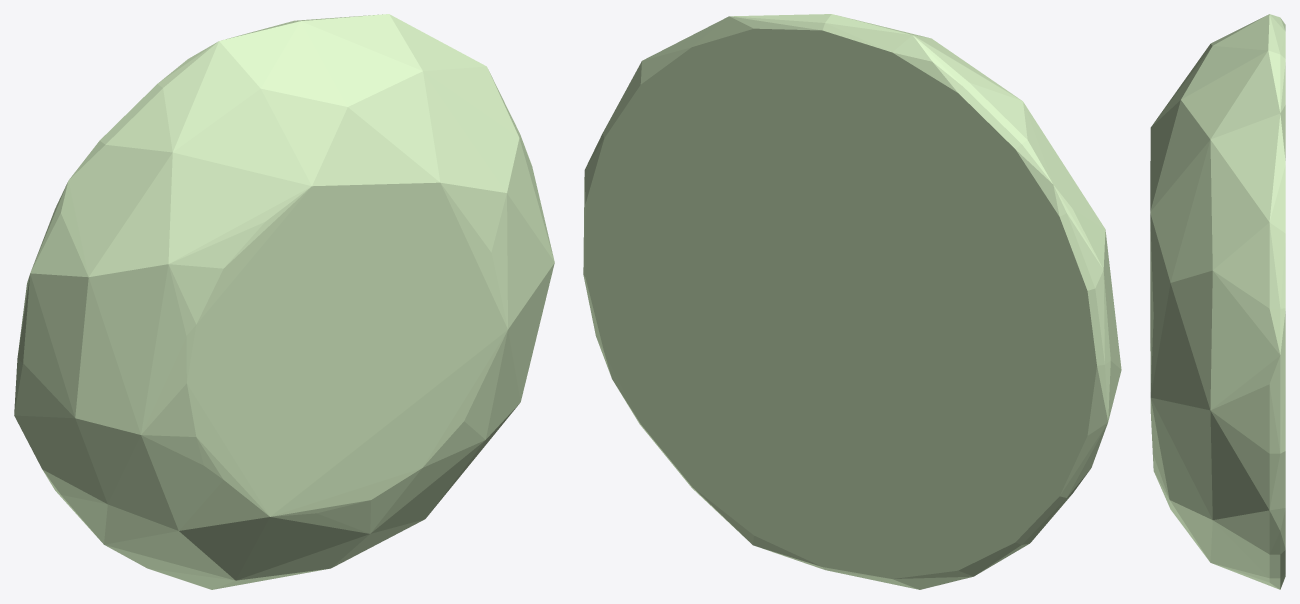
The model's file is kuka_link8_resp_coll_1.dae.
The picture shows the model from 3 angles, left to right: view 1: azimuth 30°, elevation 25°; view 2: azimuth 150°, elevation 25°; view 3: azimuth 270°, elevation 25°; orthographic projection. The views are drawn at different scales.
Visible parts, largest first — view 1: Node_0000015C5C916960; view 2: Node_0000015C5C916960; view 3: Node_0000015C5C916960.
Boxes of the visible parts, bbox=[...] form: Node_0000015C5C916960: bbox=[14, 14, 554, 589]; Node_0000015C5C916960: bbox=[583, 14, 1121, 589]; Node_0000015C5C916960: bbox=[1150, 14, 1285, 589].
Size of the model in its own units: 0.1042 by 0.105 by 0.025.
